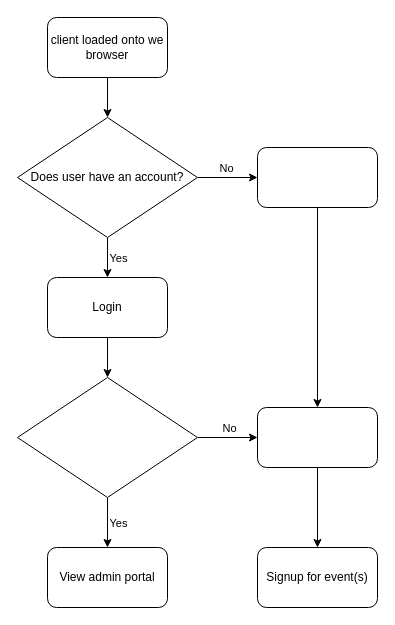
This 395x625 diagram has some shape labels left out. Each missing label, with the box of its shape:
Are they an admin: (16, 376, 198, 498)
Signup: (256, 146, 378, 208)
View event calendar: (256, 406, 378, 468)
